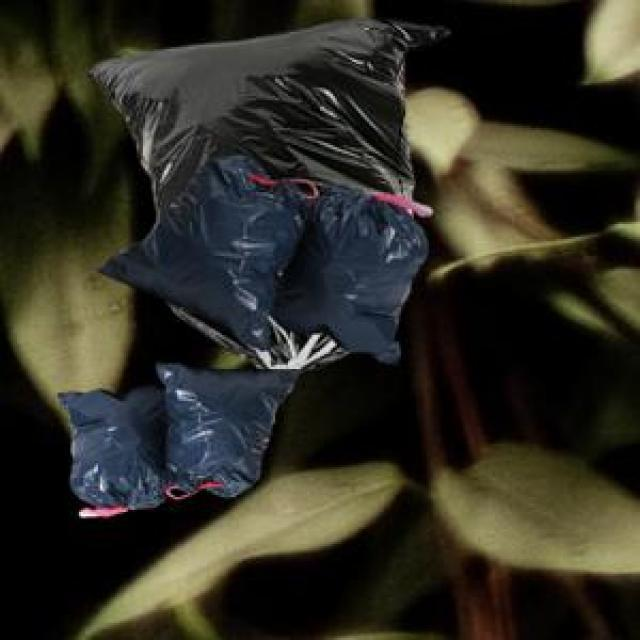Vinyl: (88, 20, 439, 361), (108, 157, 296, 342), (282, 190, 426, 358), (161, 358, 298, 496), (62, 386, 173, 513)
